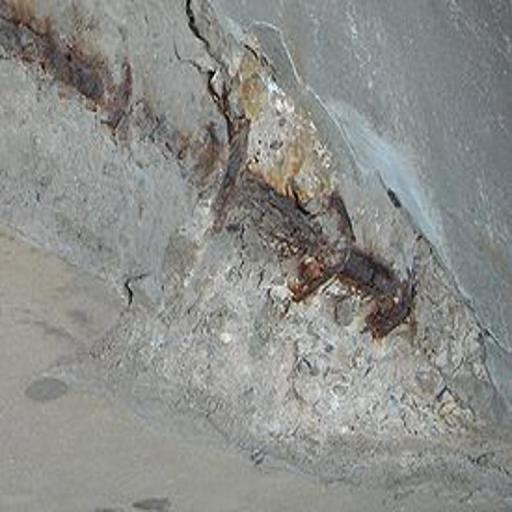spalling: (10, 2, 477, 440)
